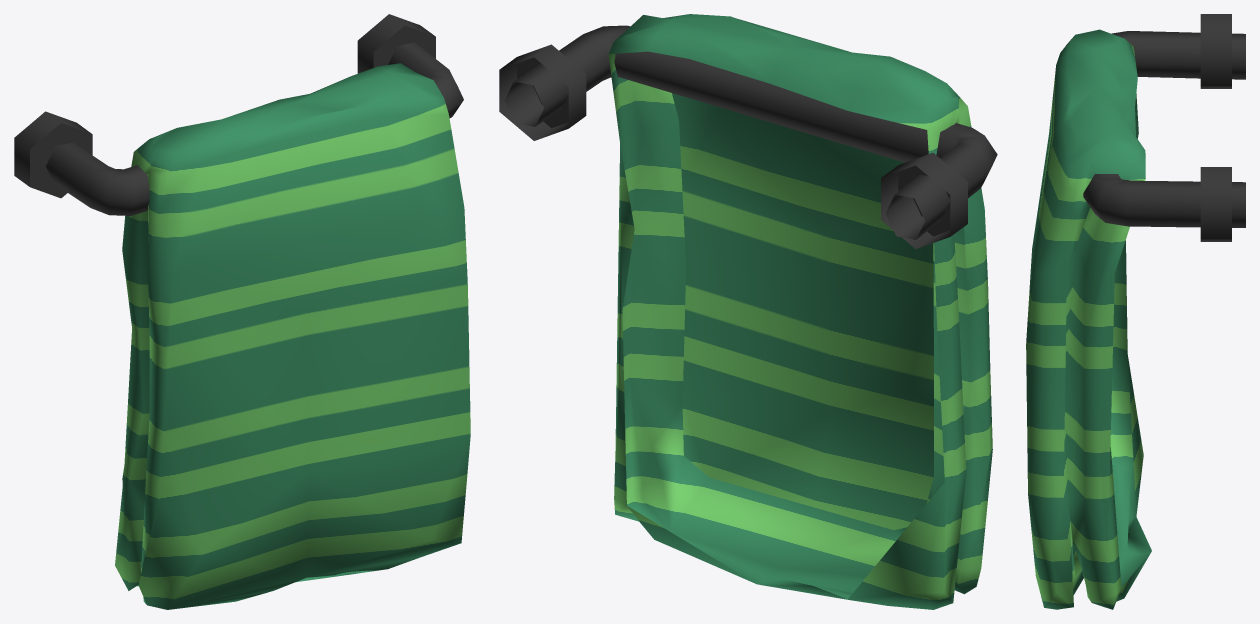
File: BathroomTowelRail.FBX
3 renders of one model, left to right at view 1: azimuth 30°, elevation 25°; view 2: azimuth 150°, elevation 25°; view 3: azimuth 270°, elevation 25°, orthographic. The views are drawn at different scales.
Visible parts, largest first — view 1: BathroomTowelRail; view 2: BathroomTowelRail; view 3: BathroomTowelRail.
Boxes of the visible parts, <box> form: BathroomTowelRail: <box>14,14,470,609</box>; BathroomTowelRail: <box>499,14,997,609</box>; BathroomTowelRail: <box>1026,14,1245,609</box>.
Bounding box in the file's own units: 2.37 × 2.64 × 1.12.
